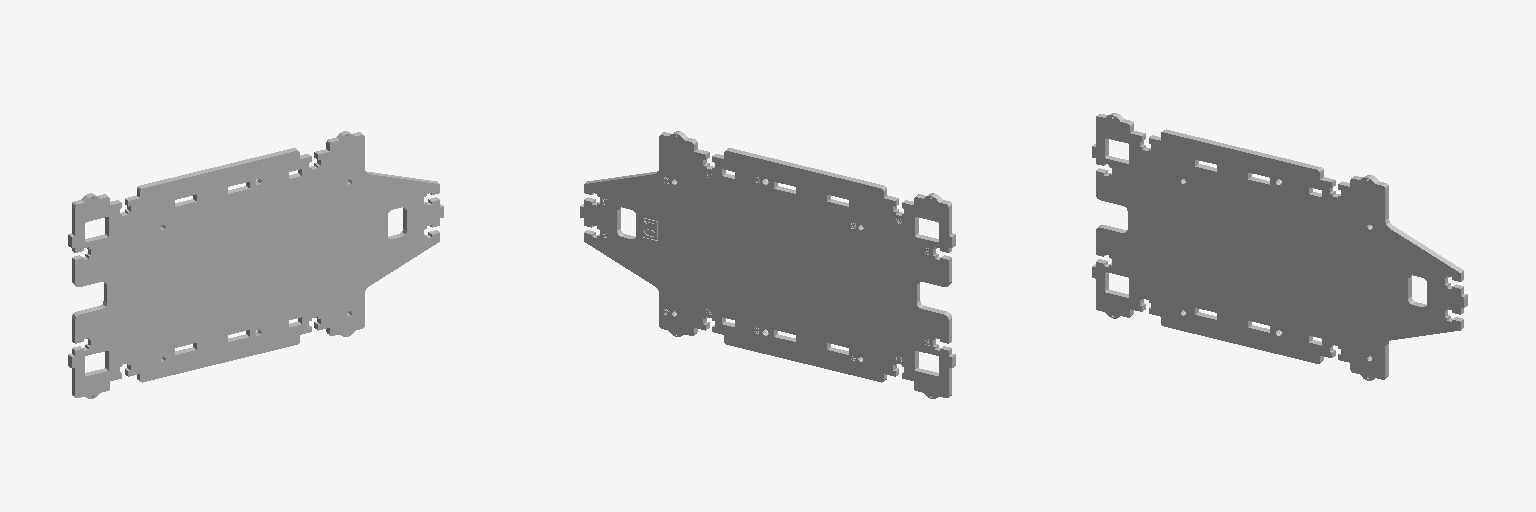
Rendered from top_plate.obj.
The picture shows the model from 3 angles: view 1: azimuth 30°, elevation 25°; view 2: azimuth 150°, elevation 25°; view 3: azimuth 330°, elevation 25°; orthographic projection.
Visible parts, largest first — view 1: 4002-00_Top_Plate; view 2: 4002-00_Top_Plate; view 3: 4002-00_Top_Plate.
Boxes of the visible parts, x1=… form: 4002-00_Top_Plate: x1=68, y1=131, x2=443, y2=398; 4002-00_Top_Plate: x1=580, y1=131, x2=955, y2=398; 4002-00_Top_Plate: x1=1092, y1=113, x2=1467, y2=380.
Size of the model in its own units: 0.1716 by 0.0895 by 0.003.